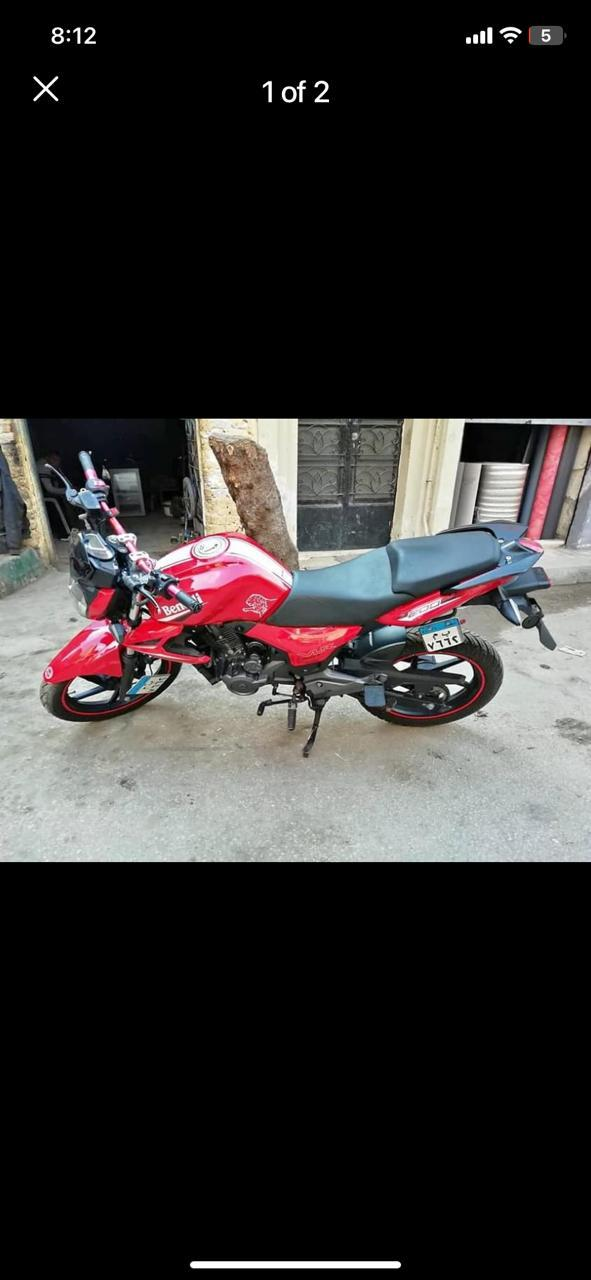License Plate: (419, 618, 465, 655)
